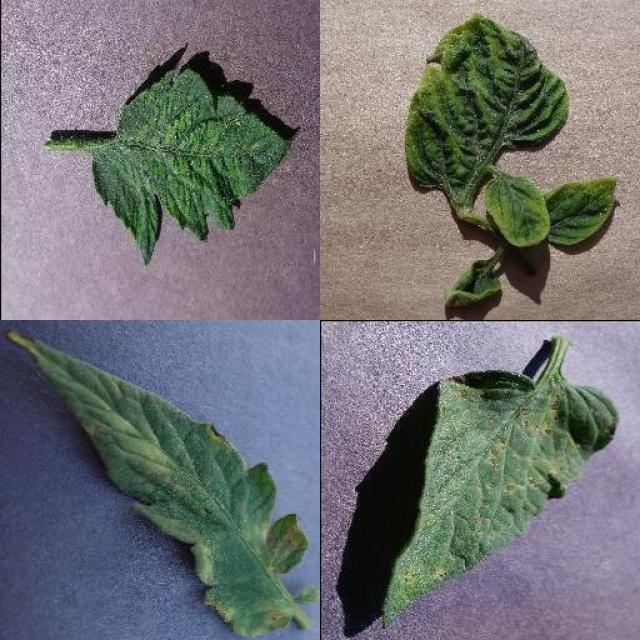Septoria: (380, 370, 619, 630)
